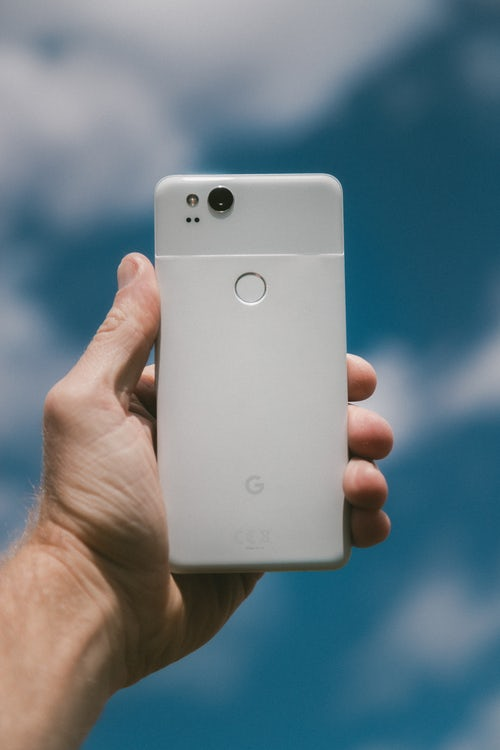phone: (150, 172, 355, 574)
